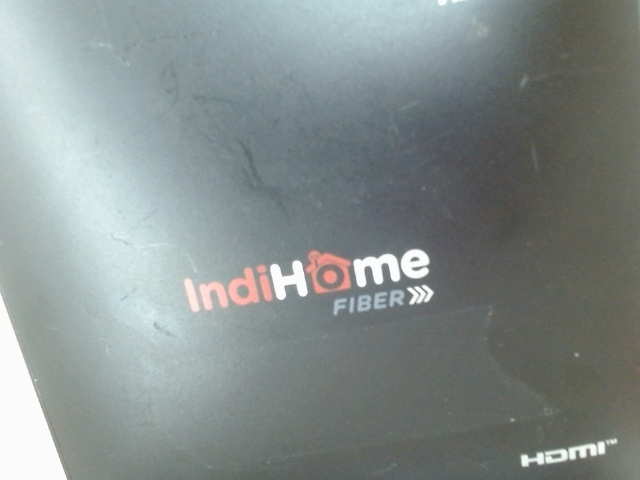AF_IndiHome: (161, 234, 447, 327)
